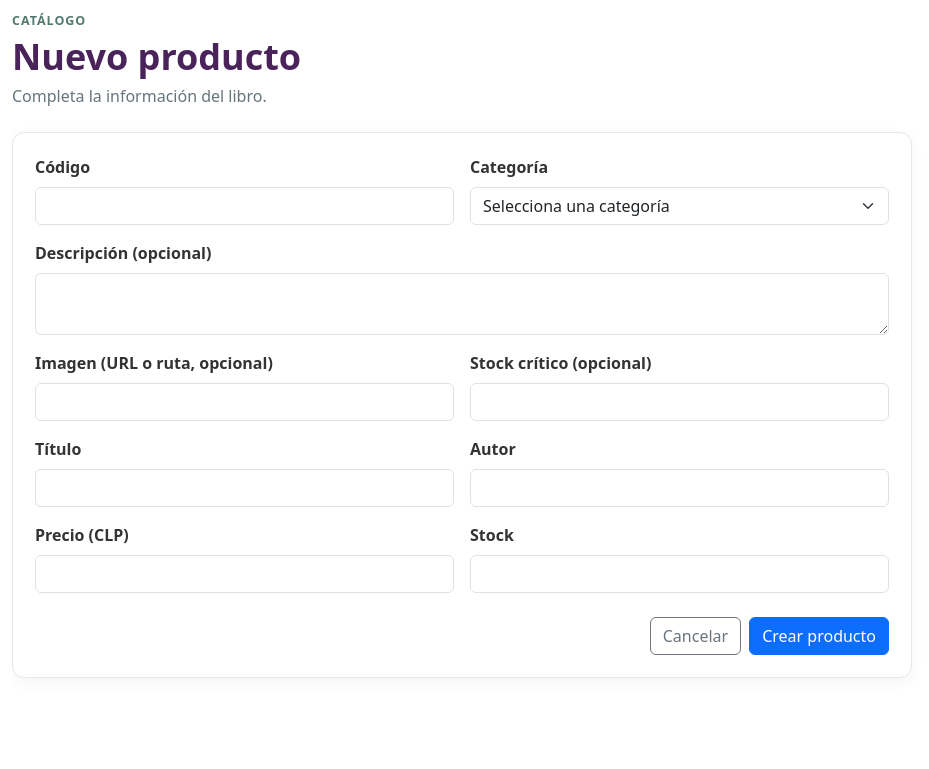
Test: Formulario real de libros › rechaza stock -1 y precio 12 inválidos
The width and height of the screenshot is (929, 769).
In the field labelled "Código": point(244, 206) [35,187,454,225], type "LIB-NUEVO"
Select "Narrativa" in the dropdown labelled "Categoría": point(680, 206) [470,187,889,225]
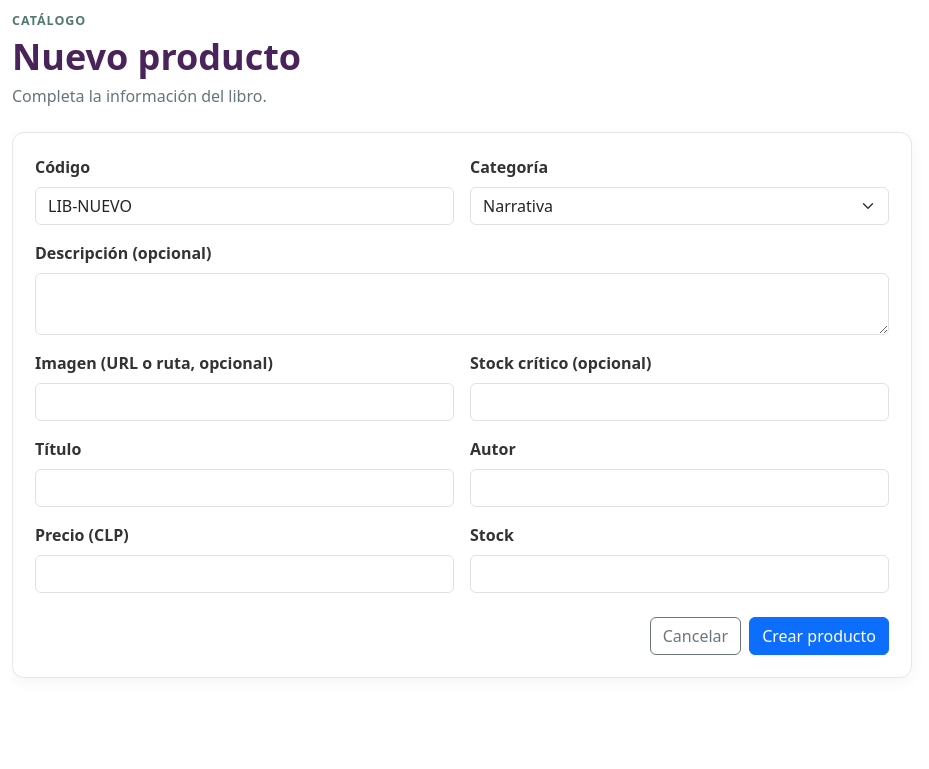
In the field labelled "Título": point(244, 488) [35,469,454,507], type "Libro nuevo"
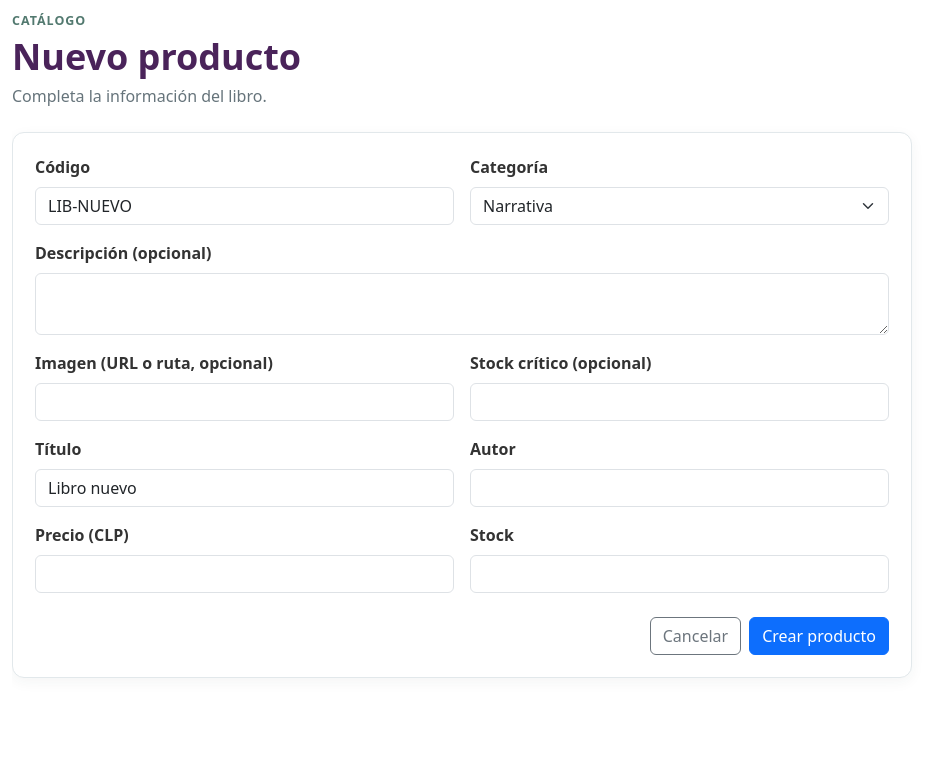
In the field labelled "Autor": point(680, 488) [470,469,889,507], type "Autora real"
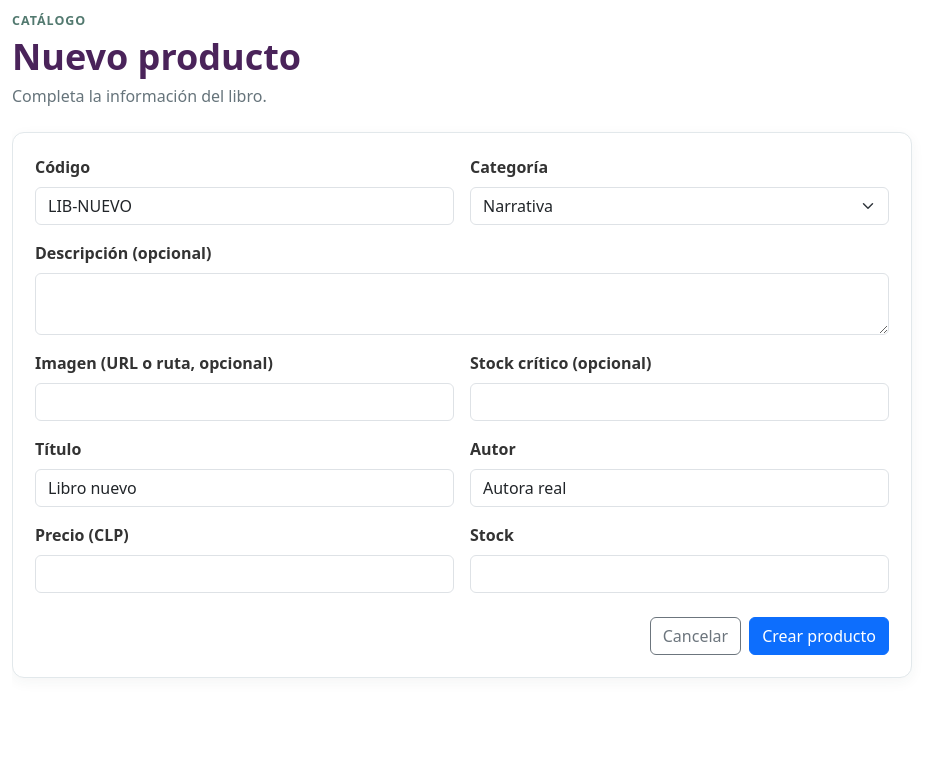
In the number field labelled "Precio (CLP)": point(244, 574) [35,555,454,593], type "12"
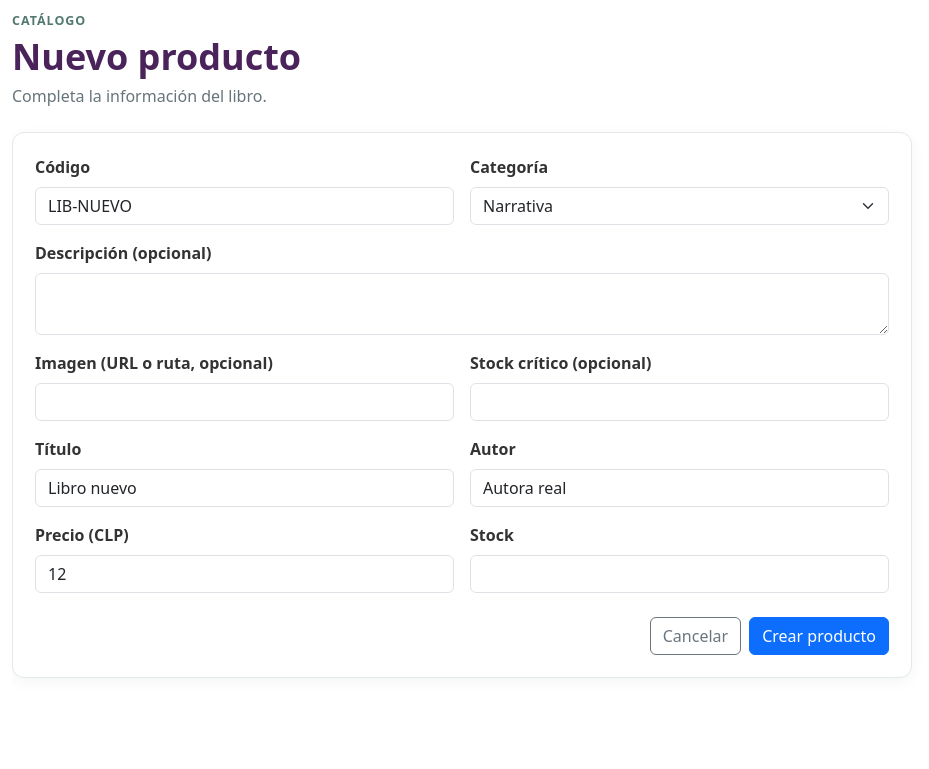
In the number field labelled "Stock": point(680, 574) [470,555,889,593], type "-1"
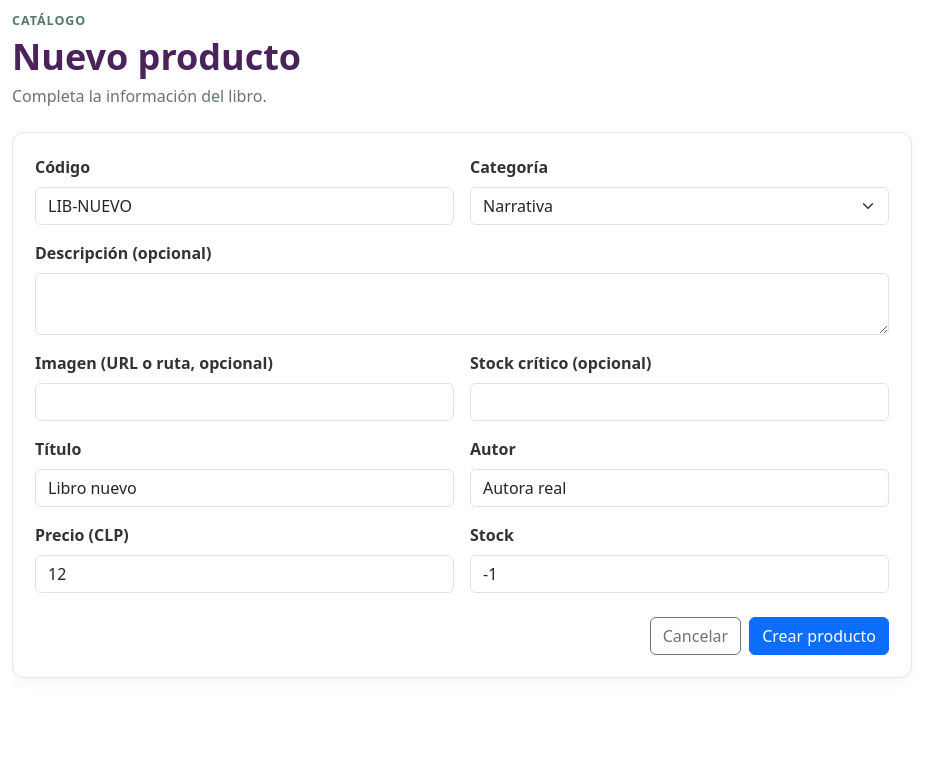
Click the button "Crear producto": point(819, 636) [749,617,889,655]
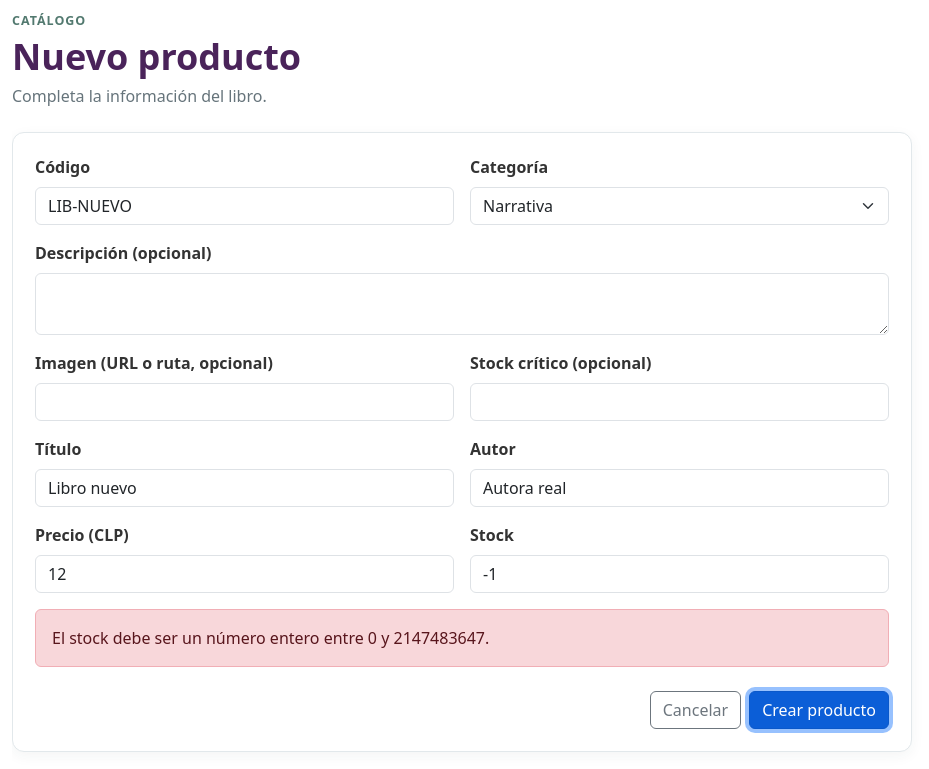
Expected: the message "El stock debe ser un número entero entre 0 y 2147483647." is shown, [35,609,889,667]
